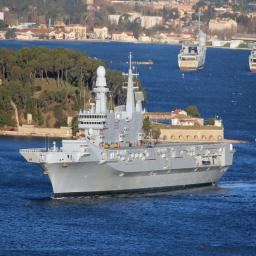Portanaves: (19, 46, 237, 204)
